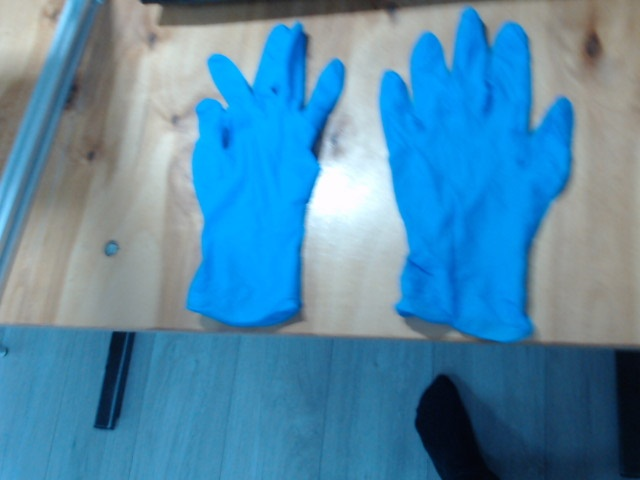medical_glove: (378, 8, 574, 346), (189, 24, 347, 324)
